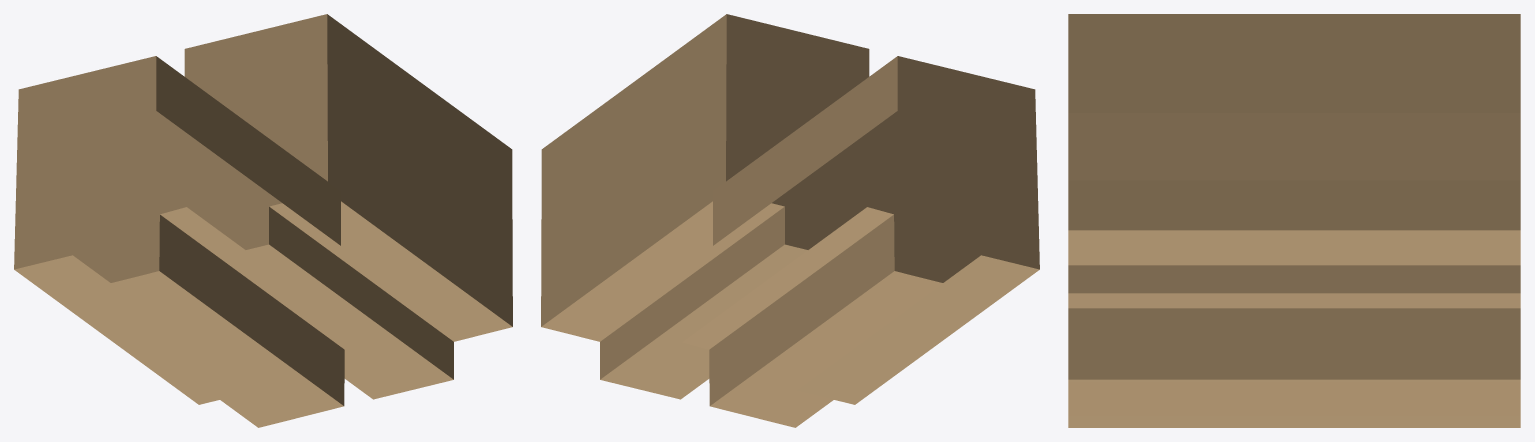
3 views of the same model, side by side, from view 1: azimuth 30°, elevation 25°; view 2: azimuth 150°, elevation 25°; view 3: azimuth 270°, elevation 25° (orthographic). The views are drawn at different scales.
Parts seen in each view (by area): view 1: 0_0_1_1_3_3_2_0; view 2: 0_0_1_1_3_3_2_0; view 3: 0_0_1_1_3_3_2_0.
Boxes of the visible parts, box(x1,y1,x2,y2) form: 0_0_1_1_3_3_2_0: box(14, 14, 512, 427); 0_0_1_1_3_3_2_0: box(541, 14, 1039, 427); 0_0_1_1_3_3_2_0: box(1068, 14, 1520, 427).
Size of the model in its own units: 26.47 by 17.46 by 27.
